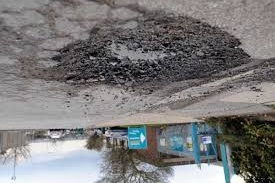pothole: (34, 14, 249, 93)
